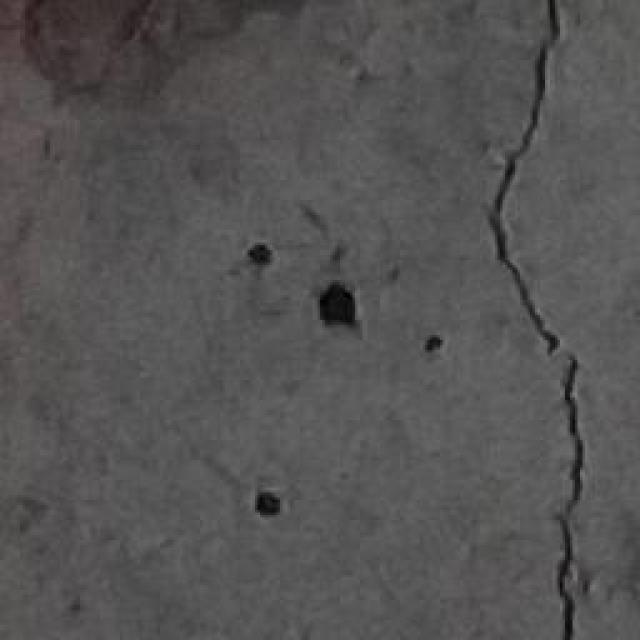Annular: (314, 280, 365, 338), (250, 485, 294, 522), (247, 237, 287, 267), (424, 335, 447, 358)
Longitudinal: (486, 1, 606, 625)
